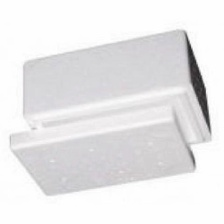foam_box: (5, 25, 216, 201)
